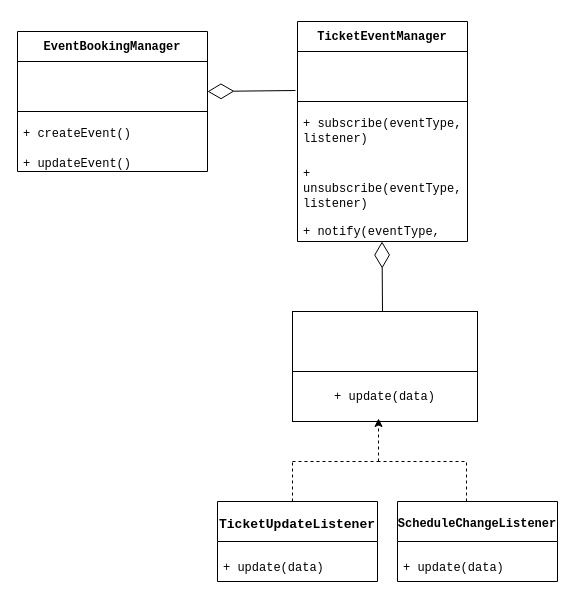
Some shapes in this 575 by 602 pixel diagram are drawn without their labels. Each missing label, with the centre of its shape:
"+ events: TicketEventManager" belongs at pixel 112 86.
"+ listeners" belongs at pixel 382 76.
"«interface» EventBookingListener" belongs at pixel 385 341.
